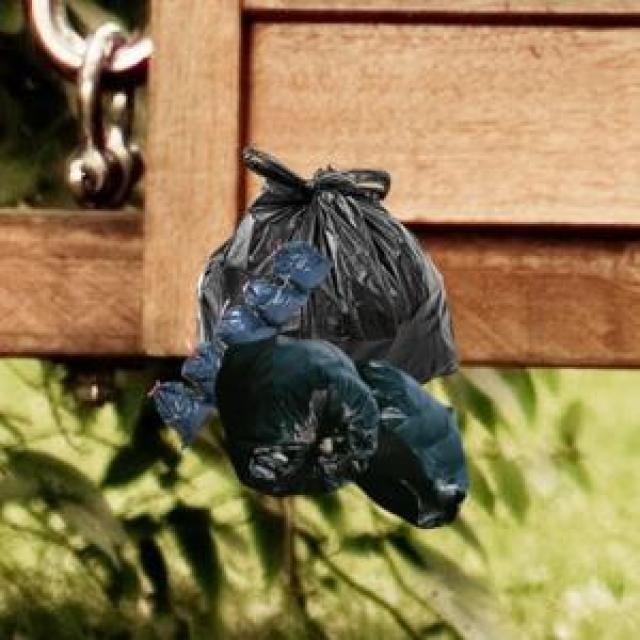miscellaneous trash: (194, 143, 454, 380), (211, 331, 465, 525), (152, 237, 331, 446)
